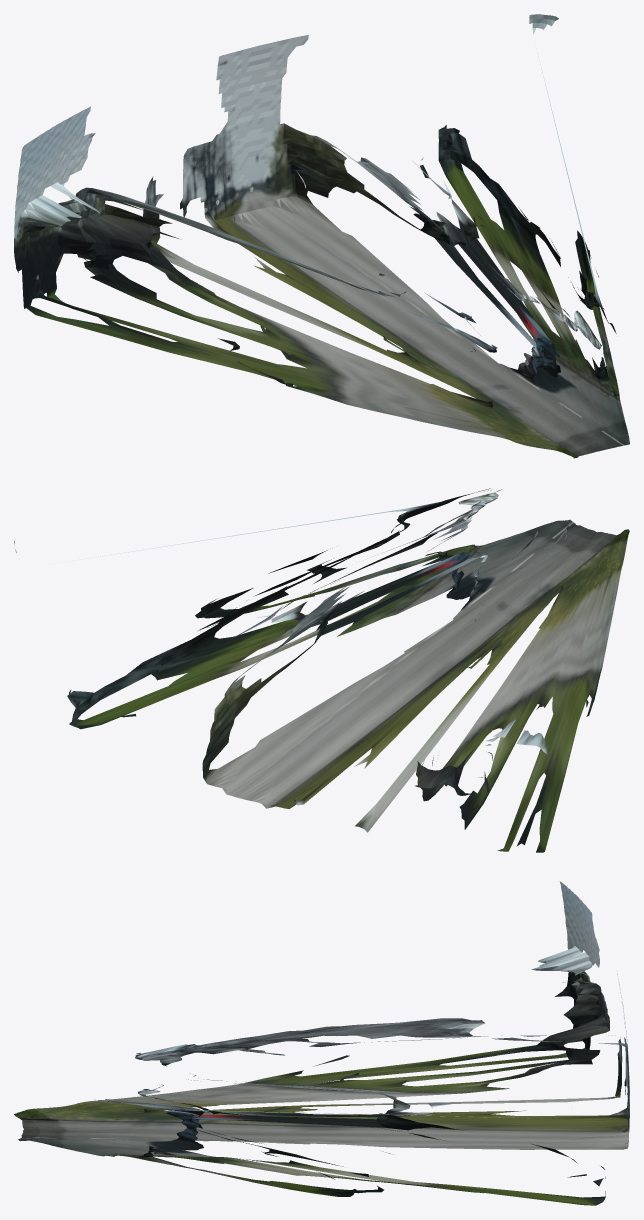
3 renders of one model, top to bottom at view 1: azimuth 30°, elevation 25°; view 2: azimuth 150°, elevation 25°; view 3: azimuth 270°, elevation 25°, orthographic. The views are drawn at different scales.
Visible parts, largest first — view 1: defaultobject; view 2: defaultobject; view 3: defaultobject.
Part boxes in pixels (bbox=[...]): defaultobject: bbox=[14, 14, 629, 458]; defaultobject: bbox=[14, 488, 629, 852]; defaultobject: bbox=[14, 881, 629, 1205].
Bounding box in the file's own units: 40.22 × 13.27 × 45.12.
1 material, 1 textured.
